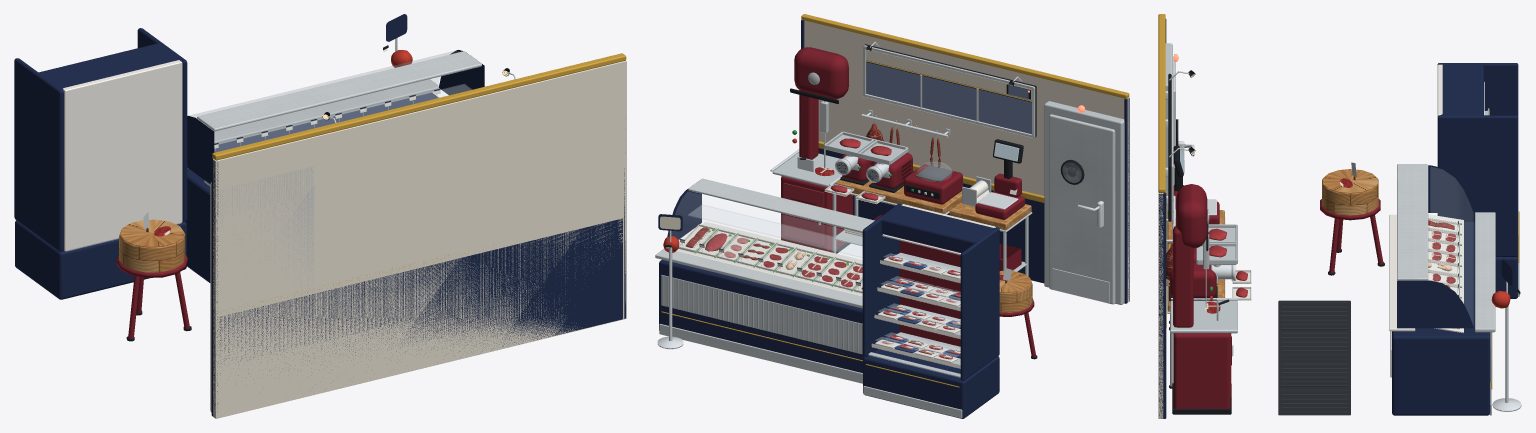
File: sector-acougue_T3.fbx
3 renders of one model, left to right at view 1: azimuth 30°, elevation 25°; view 2: azimuth 150°, elevation 25°; view 3: azimuth 270°, elevation 25°, orthographic. The views are drawn at different scales.
Parts seen in each view (by area): view 1: Back Wall, Body, Wall Dressing; view 2: Body, Wall Dressing, Back Wall; view 3: Body, Back Wall, Wall Dressing.
Boxes of the visible parts, bbox=[...] form: Back Wall: bbox=[211, 53, 626, 418]; Body: bbox=[14, 14, 484, 341]; Wall Dressing: bbox=[210, 68, 515, 412]; Body: bbox=[655, 47, 1037, 418]; Wall Dressing: bbox=[861, 41, 1124, 304]; Back Wall: bbox=[801, 14, 1129, 303]; Body: bbox=[1167, 63, 1521, 415]; Back Wall: bbox=[1158, 14, 1166, 418]; Wall Dressing: bbox=[1165, 43, 1195, 285].
Size of the model in its own units: 4 by 2.45 by 3.5.
